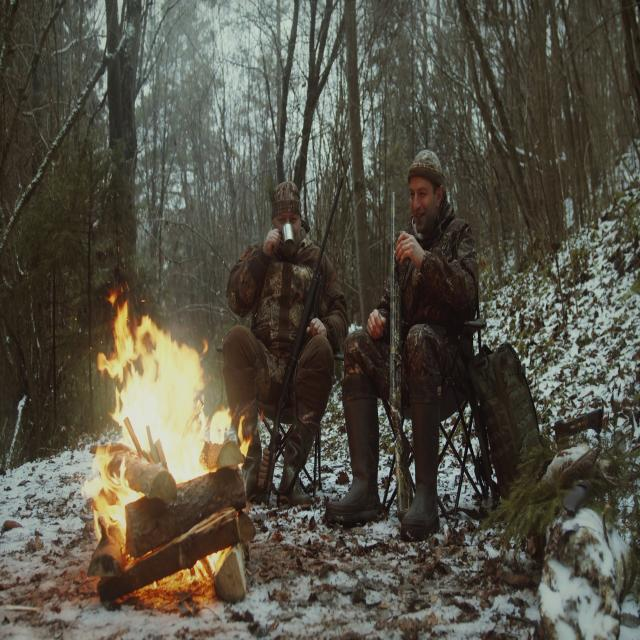Fire: (73, 278, 255, 571)
